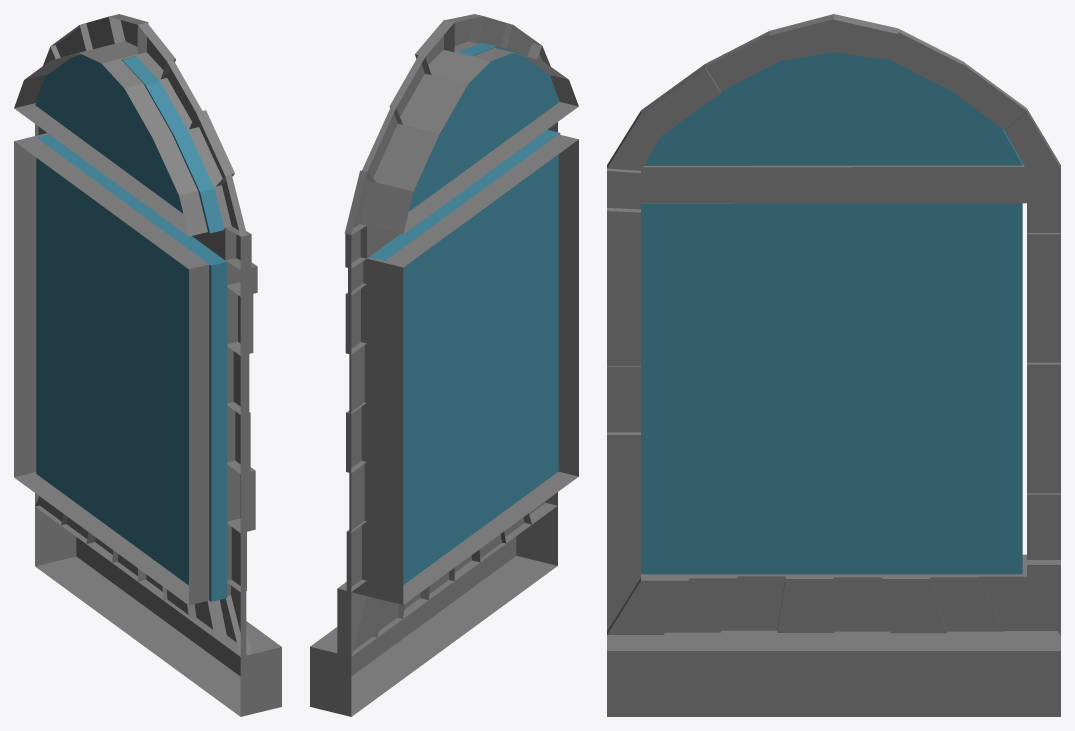
File: FenêtreCourb.glb
3 views of the same model, side by side, from view 1: azimuth 30°, elevation 25°; view 2: azimuth 150°, elevation 25°; view 3: azimuth 270°, elevation 25° (orthographic). The views are drawn at different scales.
Visible parts, largest first — view 1: FenêtreCourbRebord; view 2: FenêtreCourbRebord; view 3: FenêtreCourbRebord.
Boxes of the visible parts, x1=… form: FenêtreCourbRebord: x1=14, y1=14, x2=281, y2=716; FenêtreCourbRebord: x1=310, y1=14, x2=578, y2=716; FenêtreCourbRebord: x1=607, y1=14, x2=1060, y2=716.
Bounding box in the file's own units: 0.1923 × 1.46 × 0.8813.
